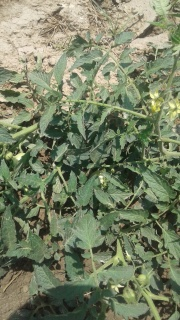tomato flower: (142, 89, 179, 120), (146, 92, 169, 112), (164, 105, 180, 125)
tomato plant: (1, 56, 180, 296)
